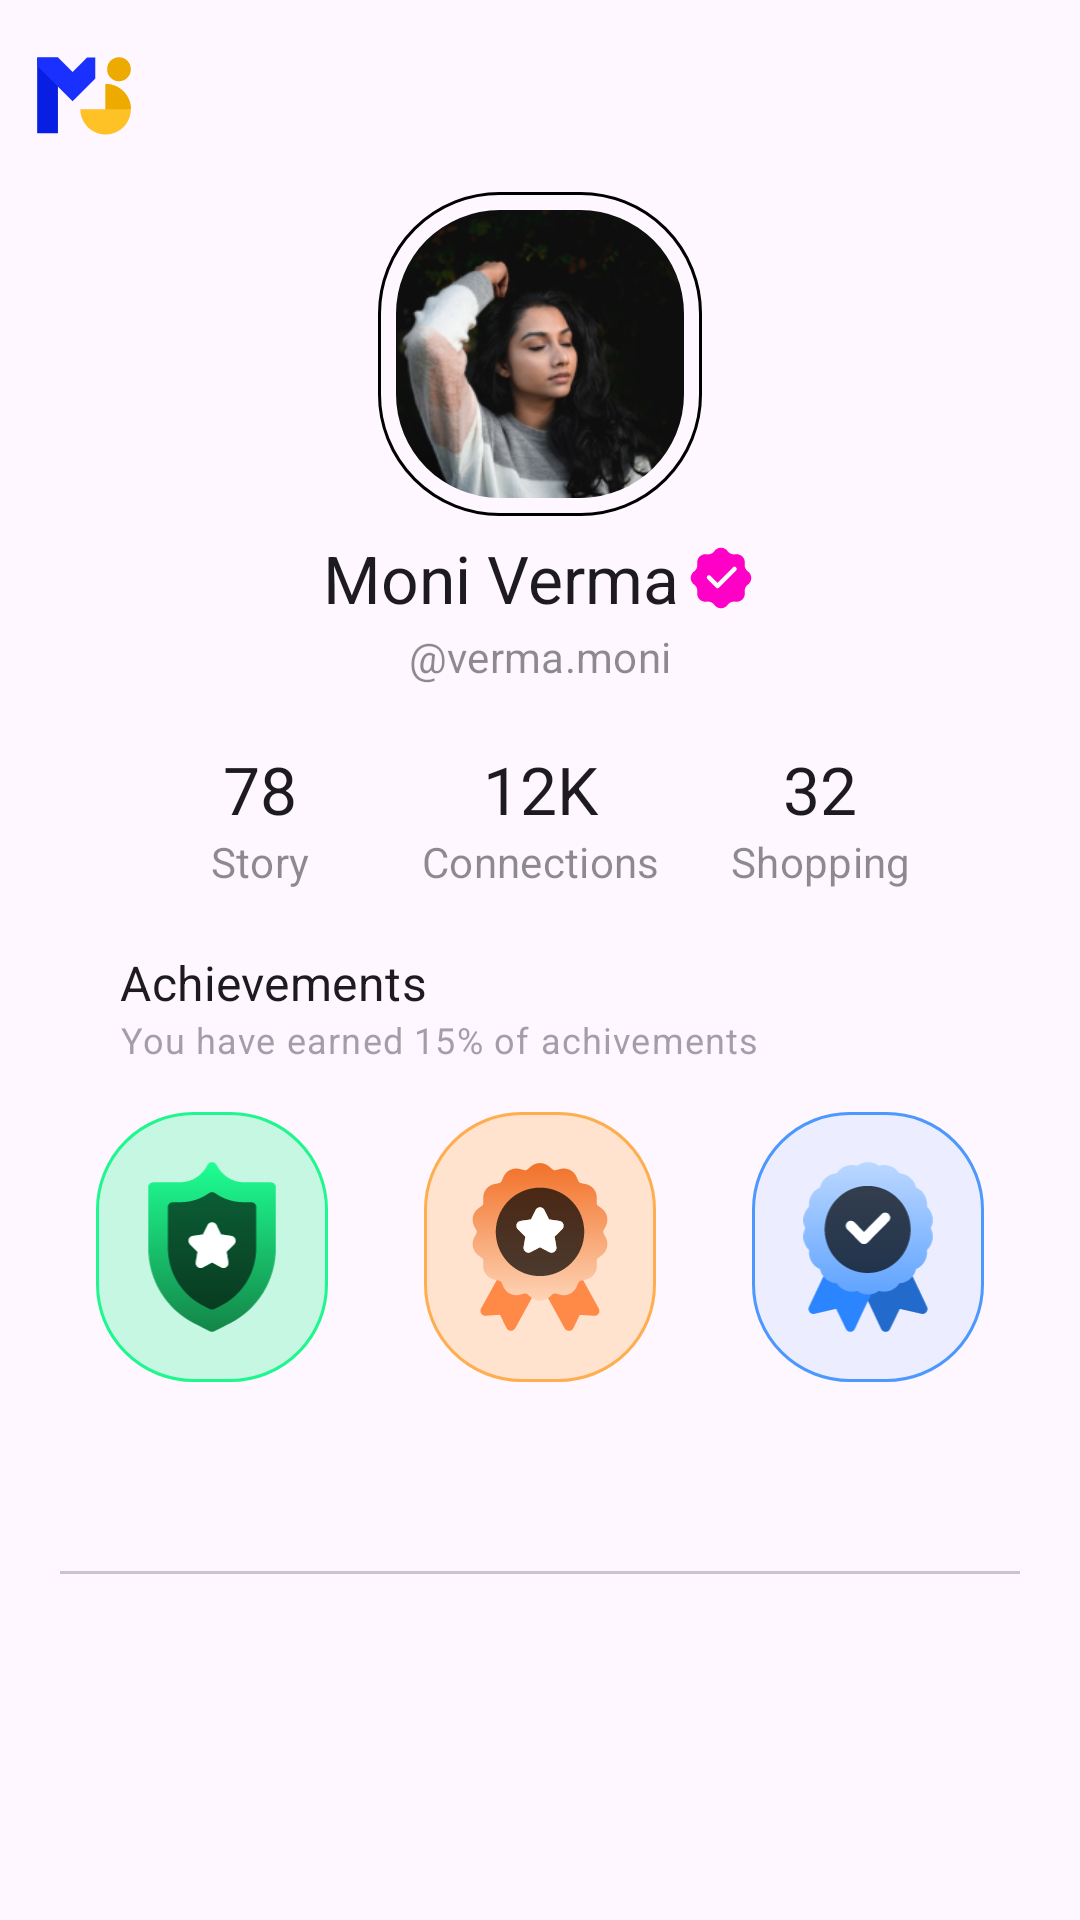

Screen size 1080 x 1920. Icon name, then its center in pixels as point (x, y):
badge: point (868, 1247)
best seller: point (540, 1247)
girl: point (540, 354)
pick tick: point (721, 578)
shield: point (212, 1247)
